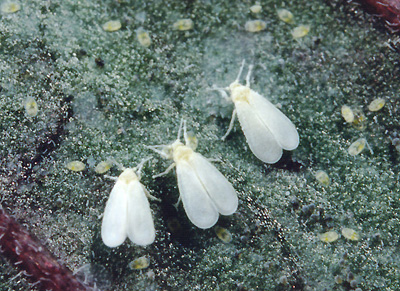whitefly: (148, 117, 238, 227), (206, 61, 301, 165), (102, 155, 154, 248)
